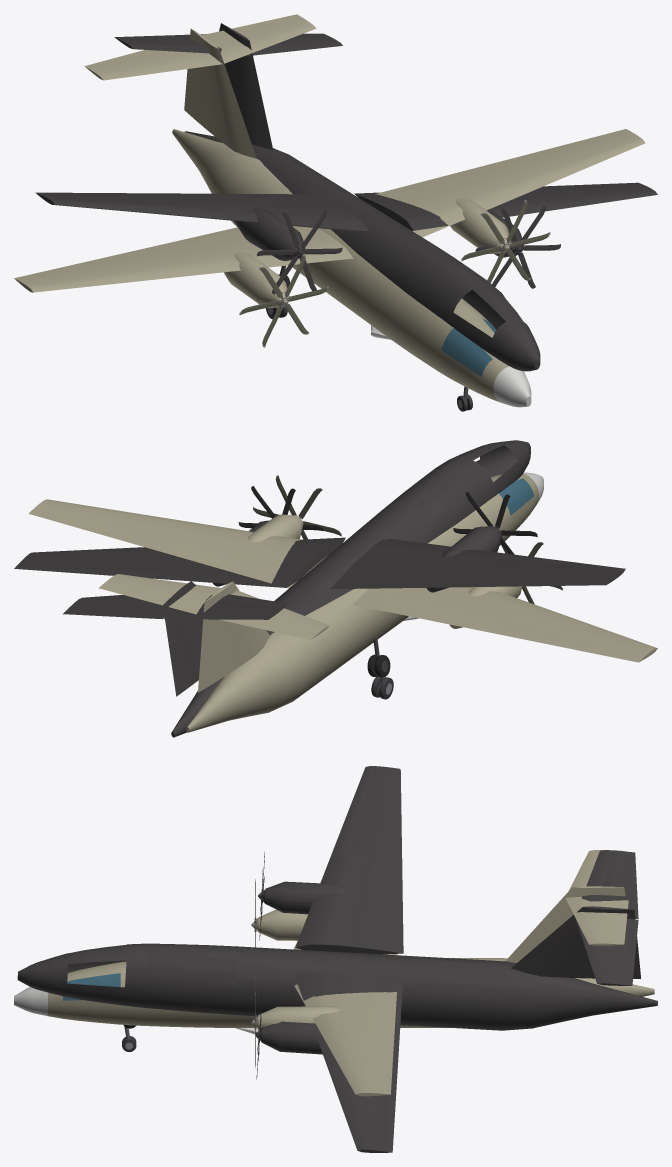
File: maritimePatrol__p_72a.glb
3 renders of one model, top to bottom at view 1: azimuth 30°, elevation 25°; view 2: azimuth 150°, elevation 25°; view 3: azimuth 270°, elevation 25°, orthographic. The views are drawn at different scales.
Visible parts, largest first — view 1: Fuselage_Mesh, Wreck, Propeller_Mesh, Propeller_1_Mesh; view 2: Fuselage_Mesh, Wreck, Propeller_1_Mesh; view 3: Wreck, Fuselage_Mesh.
Boxes of the visible parts, x1,y1,x2,y2 form: Fuselage_Mesh: (14,14,645,411); Wreck: (35,23,657,371); Propeller_Mesh: (239,254,328,347); Propeller_1_Mesh: (461,200,550,282); Fuselage_Mesh: (28,472,657,732); Wreck: (14,440,625,737); Propeller_1_Mesh: (253,475,341,539); Wreck: (17,766,657,1152); Fuselage_Mesh: (14,850,654,1096).
Size of what is drawn, in the model's own units: 27.65 by 7.94 by 27.31.
